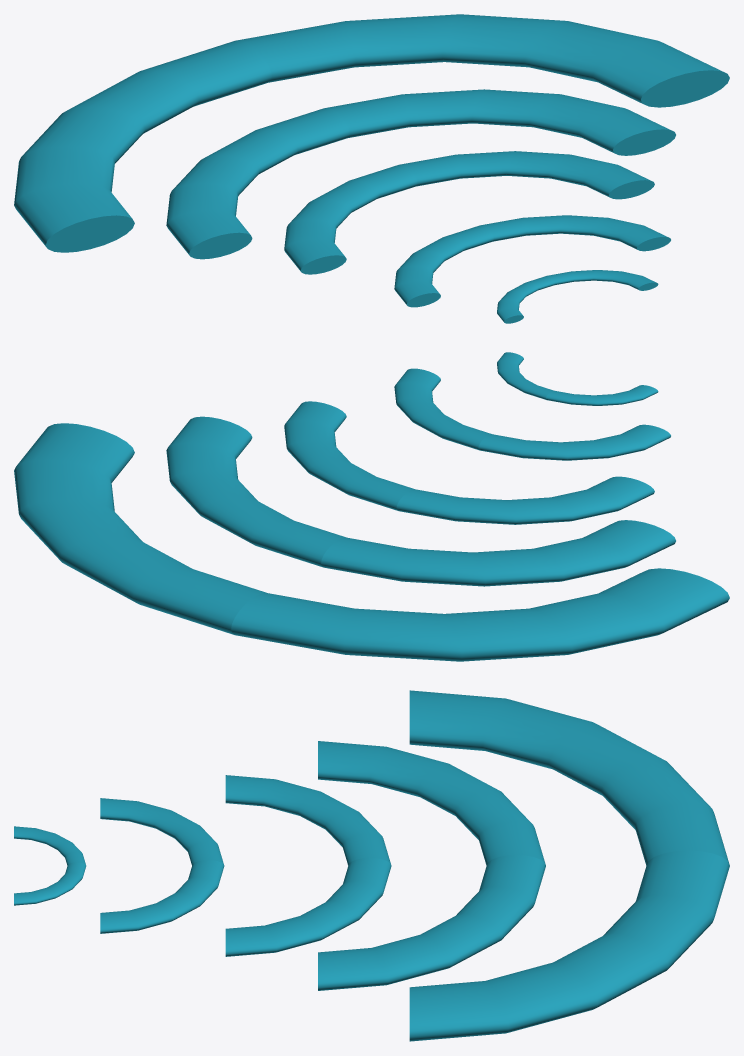
Rendered from characterA.fbx.
3 views of the same model, one above another, from view 1: azimuth 30°, elevation 25°; view 2: azimuth 150°, elevation 25°; view 3: azimuth 270°, elevation 25° (orthographic). The views are drawn at different scales.
Parts seen in each view (by area): view 1: character_A; view 2: character_A; view 3: character_A.
Boxes of the visible parts, x1,y1,x2,y2 form: character_A: [14, 14, 729, 323]; character_A: [14, 352, 729, 661]; character_A: [14, 690, 729, 1041].
Bounding box in the file's own units: 2.96 × 0.1257 × 2.62.
1 material, 1 textured.
